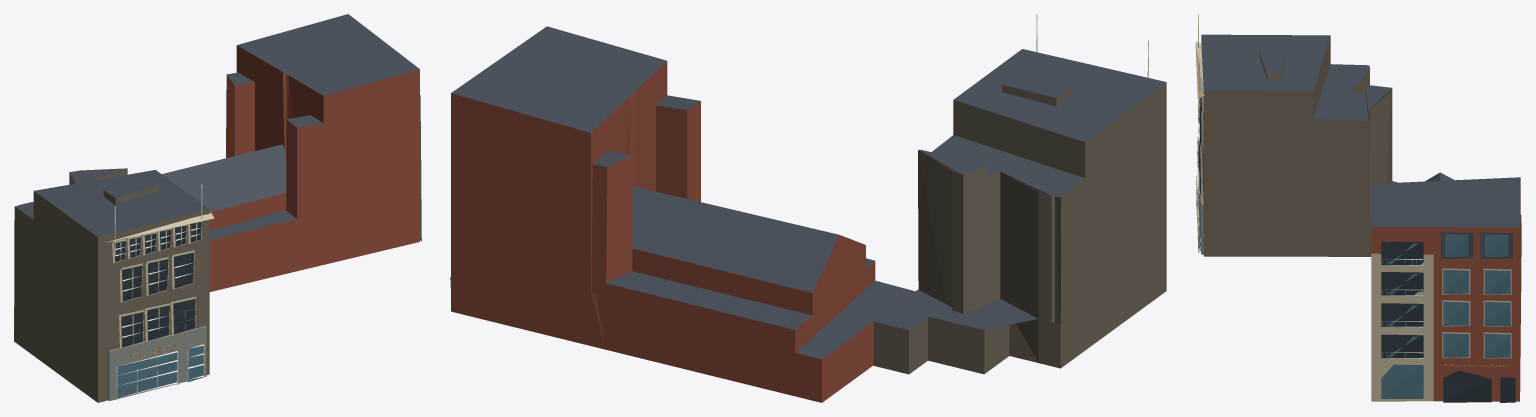
The model's file is kriterion.lod1.glb.
3 renders of one model, left to right at view 1: azimuth 30°, elevation 25°; view 2: azimuth 150°, elevation 25°; view 3: azimuth 270°, elevation 25°, orthographic. The views are drawn at different scales.
Visible parts, largest first — view 1: kriterion; view 2: kriterion; view 3: kriterion.
Boxes of the visible parts, x1,y1,x2,y2 form: kriterion: (14, 14, 421, 402); kriterion: (450, 14, 1166, 402); kriterion: (1195, 14, 1521, 402).
Size of the model in its own units: 45.62 by 20.5 by 31.09.
